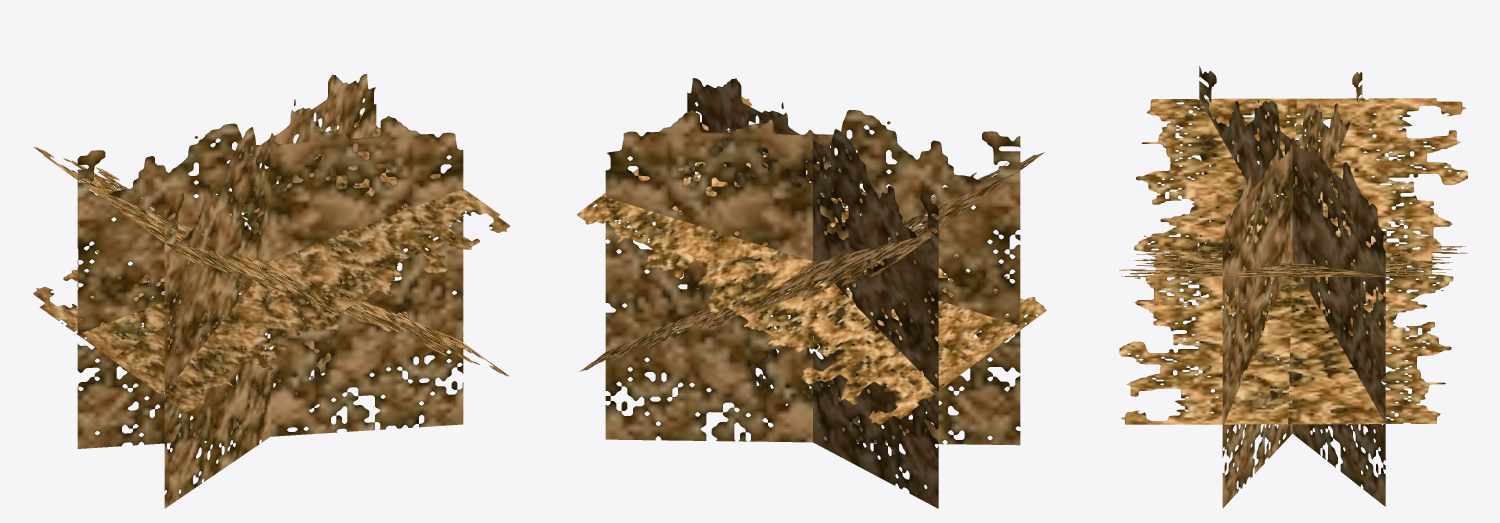
File: bush_full_overgrown_autumn.fbx
The picture shows the model from 3 angles, left to right: view 1: azimuth 30°, elevation 25°; view 2: azimuth 150°, elevation 25°; view 3: azimuth 270°, elevation 25°; orthographic projection. The views are drawn at different scales.
Parts seen in each view (by area): view 1: bush_full_overgrown_autumn; view 2: bush_full_overgrown_autumn; view 3: bush_full_overgrown_autumn.
Boxes of the visible parts, left/top/right/bottom form: bush_full_overgrown_autumn: left=33, top=74, right=510, bottom=508; bush_full_overgrown_autumn: left=576, top=78, right=1046, bottom=508; bush_full_overgrown_autumn: left=1119, top=66, right=1467, bottom=508.
Bounding box in the file's own units: 100 × 106 × 108.
1 material, 1 textured.
